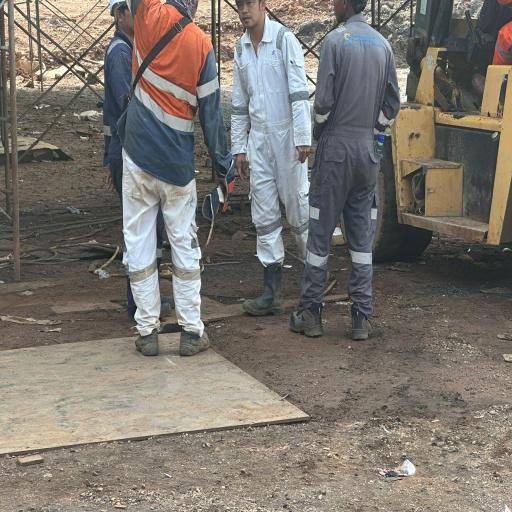safety_shoe: (239, 265, 286, 314), (348, 301, 389, 345), (178, 322, 214, 361), (290, 302, 326, 338), (132, 328, 162, 360)
